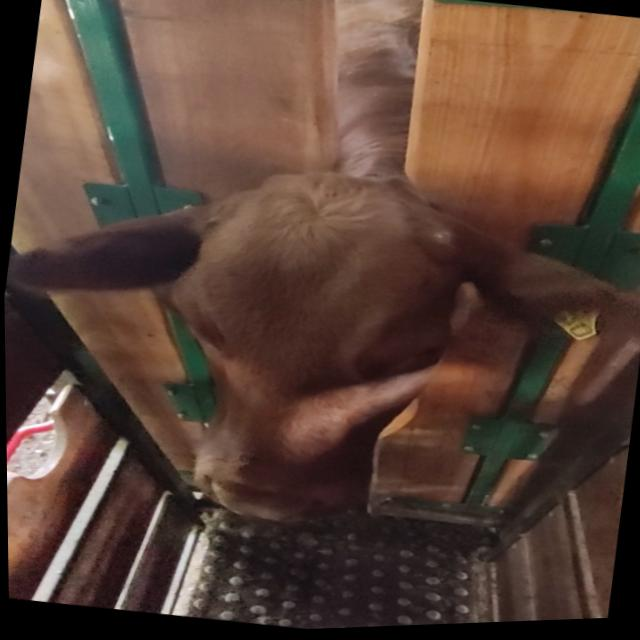cowFace: (129, 155, 476, 547)
